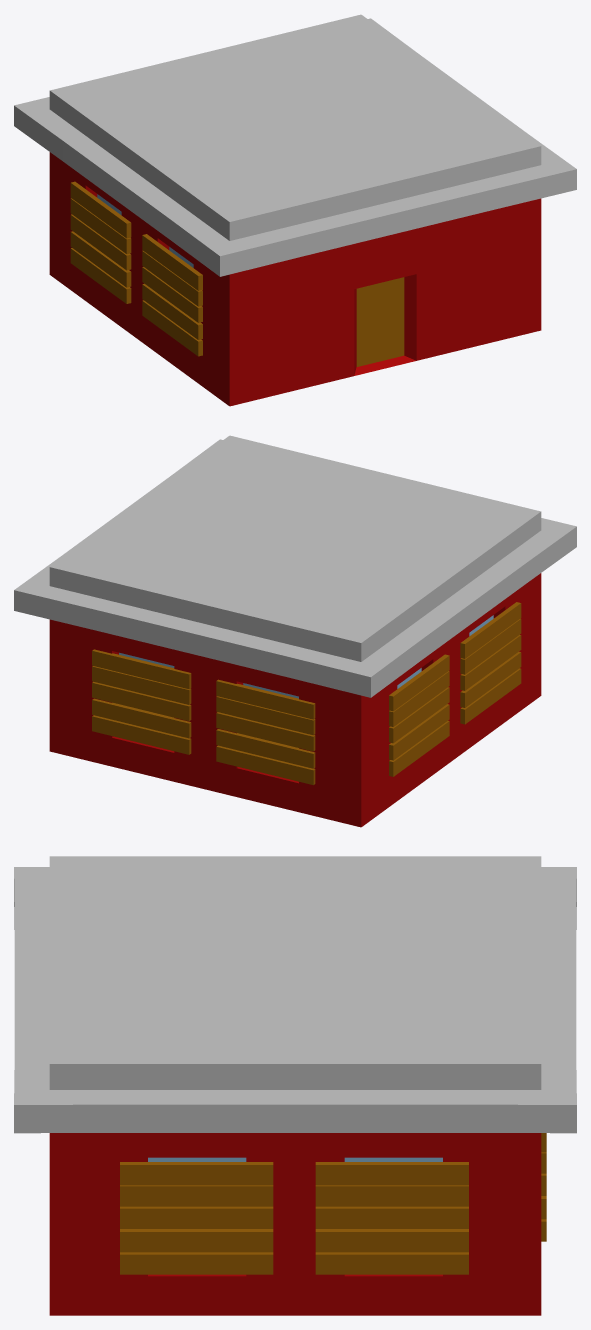
File: HouseExterior.fbx
3 views of the same model, one above another, from view 1: azimuth 30°, elevation 25°; view 2: azimuth 150°, elevation 25°; view 3: azimuth 270°, elevation 25° (orthographic). The views are drawn at different scales.
Visible parts, largest first — view 1: pCube32; view 2: pCube32; view 3: pCube32.
Boxes of the visible parts, x1,y1,x2,y2 form: pCube32: (14, 14, 576, 406); pCube32: (14, 435, 576, 827); pCube32: (14, 856, 576, 1315).
Size of the model in its own units: 18.37 by 9.07 by 18.37.
